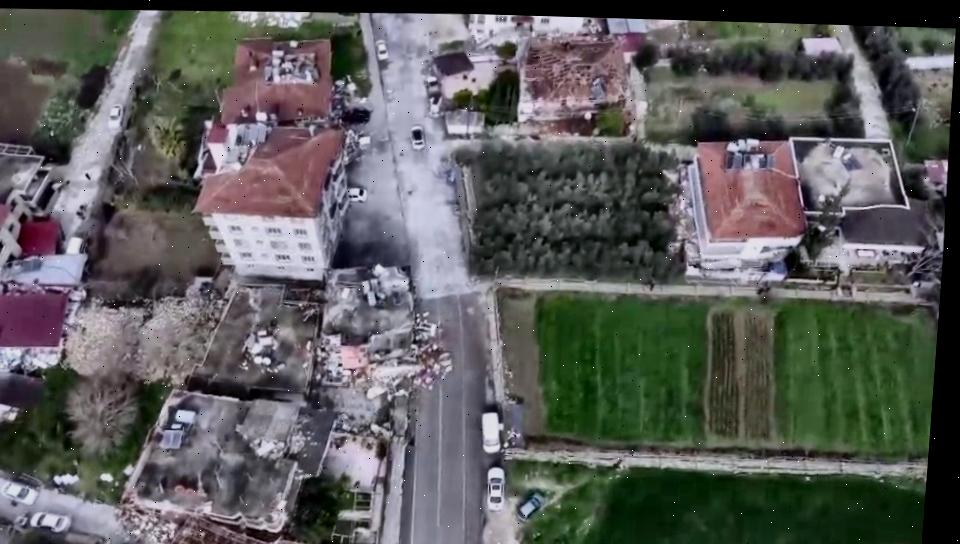kapali: (80, 501, 269, 544)
